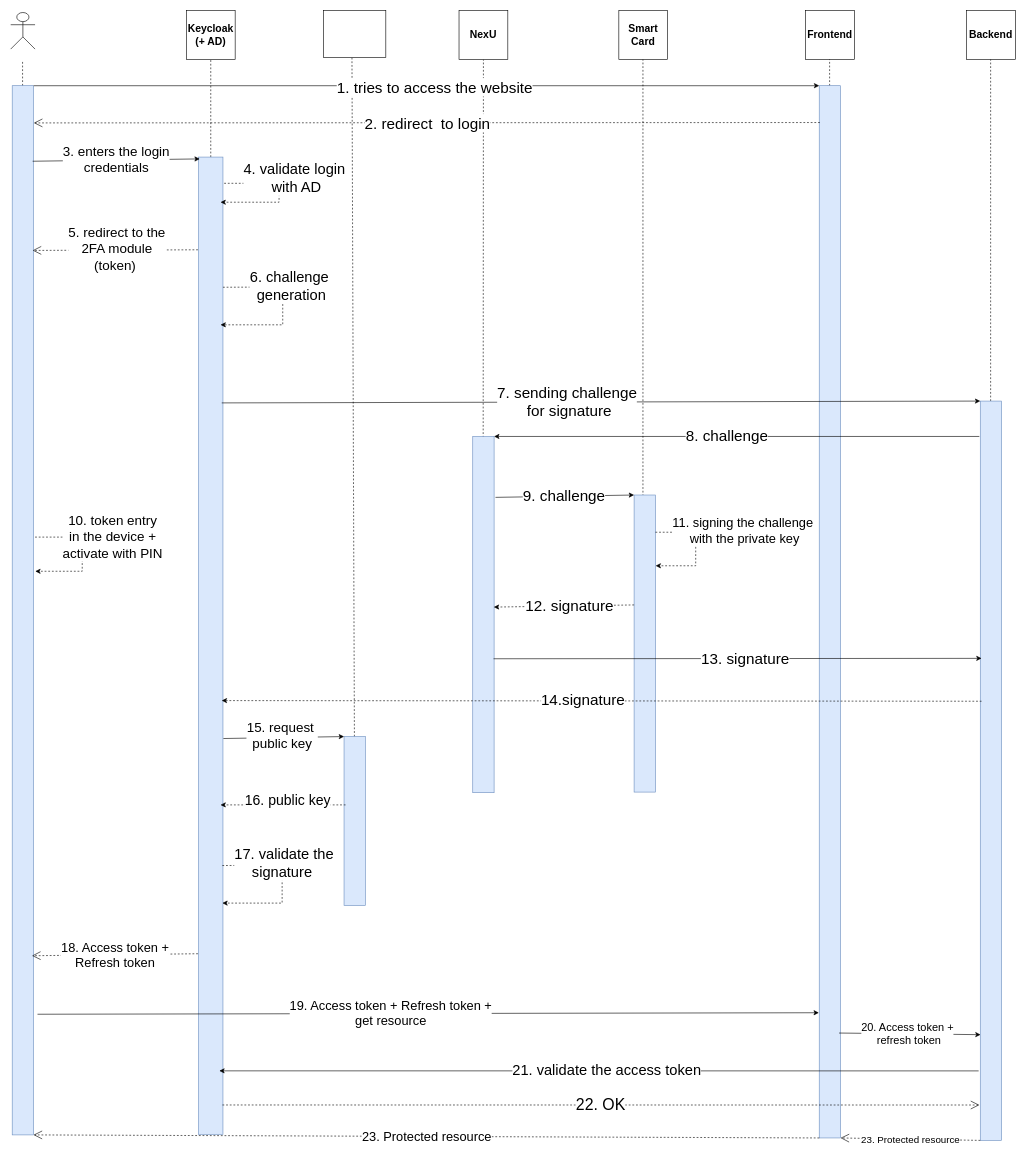
The diagram is 1026 pixels wide and 1160 high, and some of its shapes have lost their labels. The shapes that lost their labels are listed below. From the top down, each one's centre as x and y in pixels, then its label:
At [22,30]: "Actor".
At [354,34]: "PostgreSQL".
